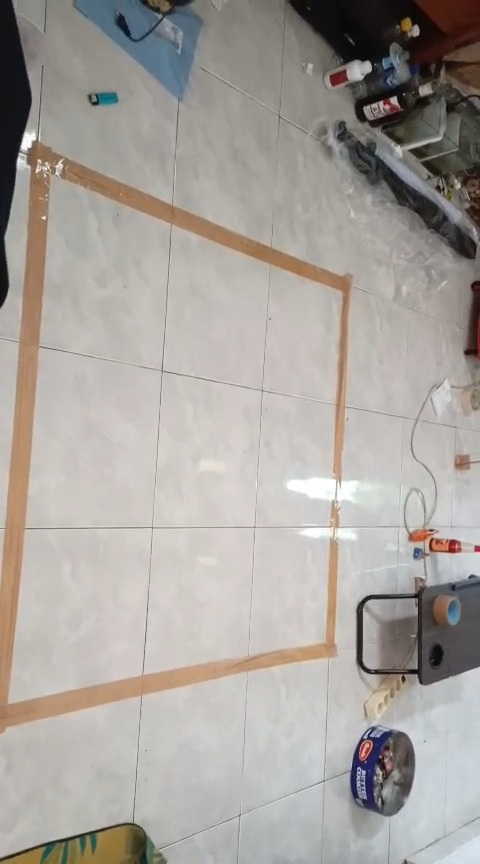floor marking: (0, 142, 349, 732)
